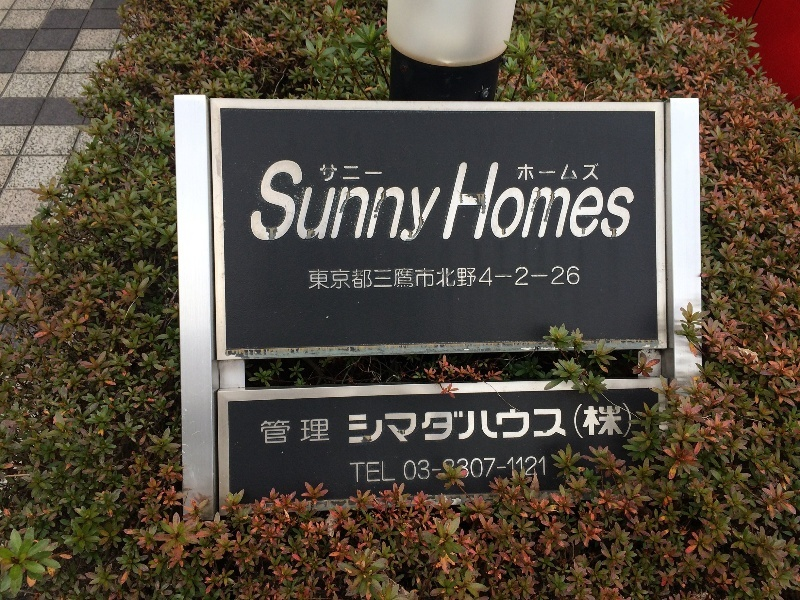text: (273, 161, 288, 243), (289, 161, 304, 243), (305, 161, 320, 243), (321, 161, 336, 243), (337, 161, 352, 243), (353, 161, 368, 243), (369, 161, 384, 243), (385, 161, 400, 243), (401, 161, 416, 243), (417, 161, 432, 243), (433, 161, 448, 243), (465, 163, 480, 240), (481, 163, 496, 240), (497, 163, 512, 240), (513, 163, 528, 240), (529, 163, 544, 240), (545, 163, 560, 240), (561, 163, 576, 240), (577, 163, 592, 240), (593, 163, 608, 240), (609, 163, 624, 240), (625, 163, 639, 240), (264, 161, 272, 243), (353, 403, 368, 444), (369, 403, 384, 444), (385, 403, 400, 444), (401, 403, 416, 444), (417, 403, 432, 444), (433, 403, 448, 444), (449, 403, 464, 444), (465, 403, 480, 444), (481, 403, 496, 444), (497, 403, 512, 444), (513, 403, 528, 444), (529, 403, 544, 444), (545, 403, 560, 444), (561, 403, 576, 444), (577, 403, 592, 444), (593, 403, 608, 444), (609, 403, 624, 444), (417, 457, 432, 485), (433, 457, 448, 485), (449, 457, 464, 485), (465, 457, 480, 485), (481, 457, 496, 485), (497, 457, 512, 485), (513, 457, 528, 485), (529, 457, 544, 485), (449, 161, 454, 243), (273, 419, 288, 445), (289, 419, 304, 445), (305, 419, 320, 445), (321, 267, 336, 291), (337, 267, 352, 291), (353, 267, 368, 291), (369, 267, 384, 291), (385, 267, 400, 291), (401, 267, 416, 291), (417, 267, 432, 291), (433, 267, 448, 291), (449, 267, 464, 291), (465, 267, 480, 291), (481, 267, 496, 291), (497, 267, 512, 291), (513, 267, 528, 291), (529, 267, 544, 291), (545, 267, 560, 291), (561, 267, 576, 291), (404, 457, 416, 485), (353, 461, 368, 483), (369, 461, 384, 483), (625, 403, 632, 444), (261, 419, 272, 445), (529, 164, 544, 182), (545, 164, 560, 182), (561, 164, 576, 182), (577, 164, 592, 182), (309, 267, 320, 291), (321, 166, 336, 183), (337, 166, 352, 183), (353, 166, 368, 183), (385, 461, 396, 483), (321, 419, 330, 445), (461, 163, 464, 240), (369, 166, 382, 183), (518, 164, 528, 182), (349, 403, 352, 444), (593, 164, 599, 182), (577, 267, 580, 291), (545, 457, 547, 485), (350, 461, 352, 483)
